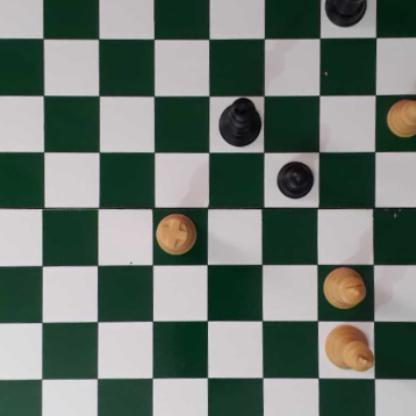black-king: (216, 97, 264, 146)
black-pawn: (276, 158, 314, 200)
black-rook: (323, 0, 373, 27)
white-bishop: (323, 265, 367, 309)
white-king: (323, 323, 374, 373)
white-pawn: (386, 97, 416, 138)
white-rook: (156, 213, 196, 254)
